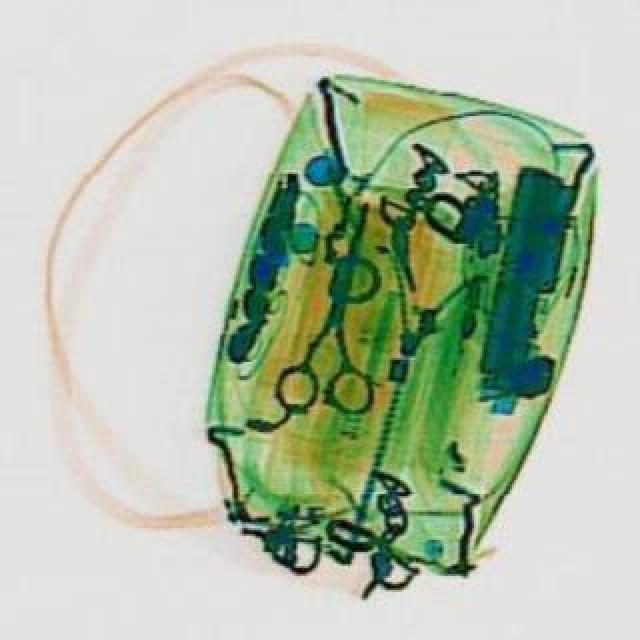pliers: (274, 200, 420, 432)
